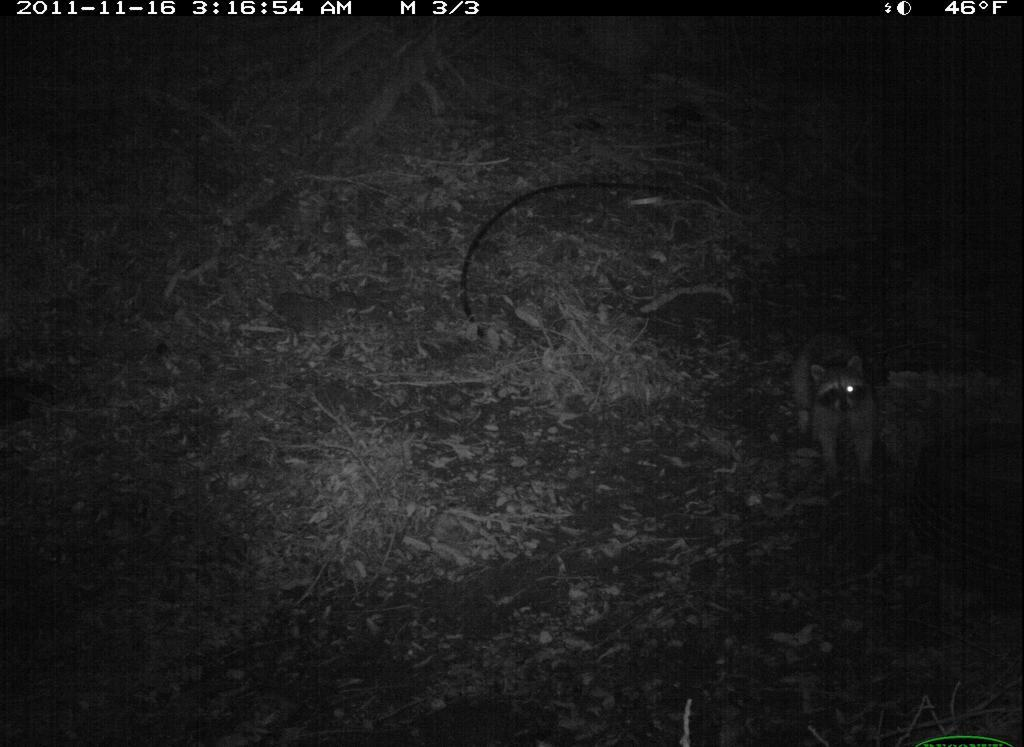raccoon: (747, 318, 904, 496)
